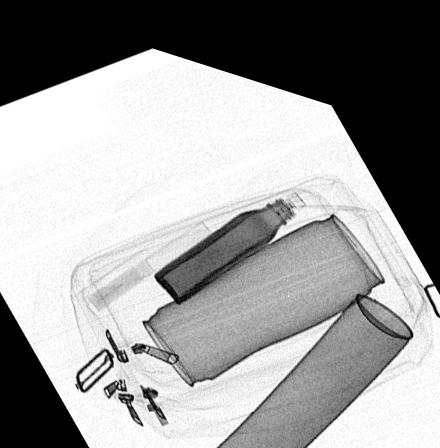Sprayer: (201, 270, 411, 448)
